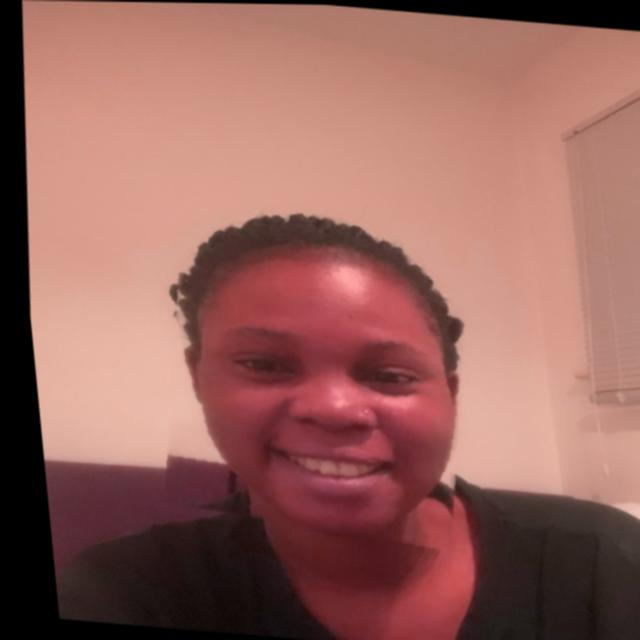happy: (136, 193, 483, 546)
